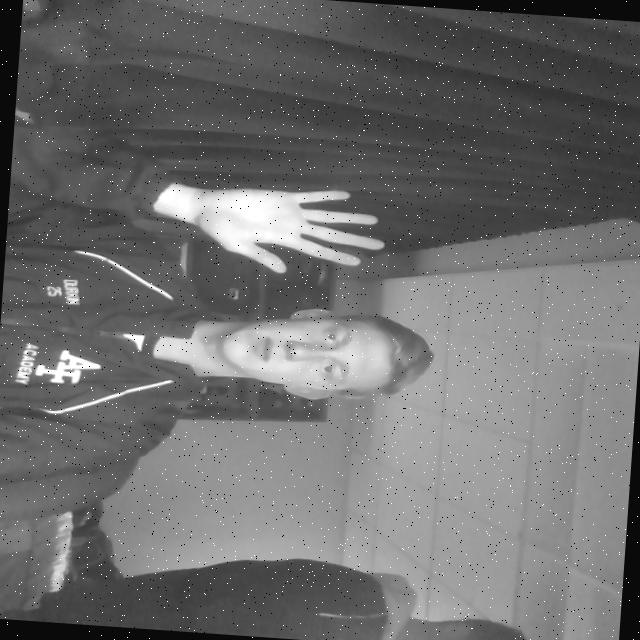paper: (172, 173, 400, 283)
